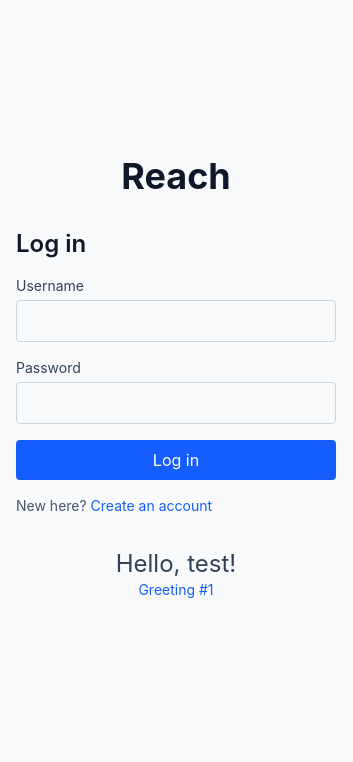
Test: logs you in and shows your chats
The width and height of the screenshot is (353, 762).
Check: the heading "Log in" is shown, box [16, 229, 86, 258]
Step 1. Type "sadra" into the field labelled "Username" → (176, 321), box [16, 300, 336, 342]
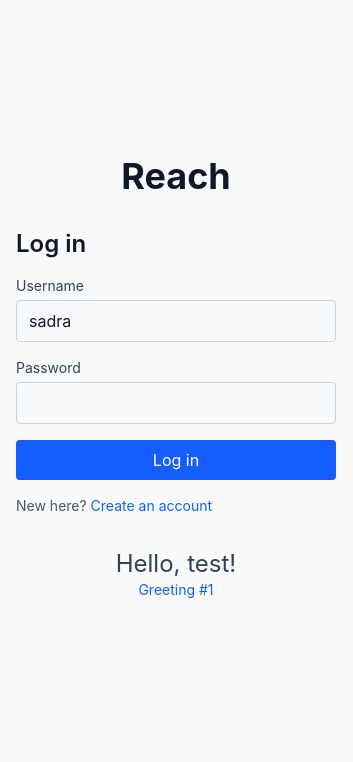
Step 2. Type "purple tram winter" into the password field labelled "Password" → (176, 403), box [16, 382, 336, 424]
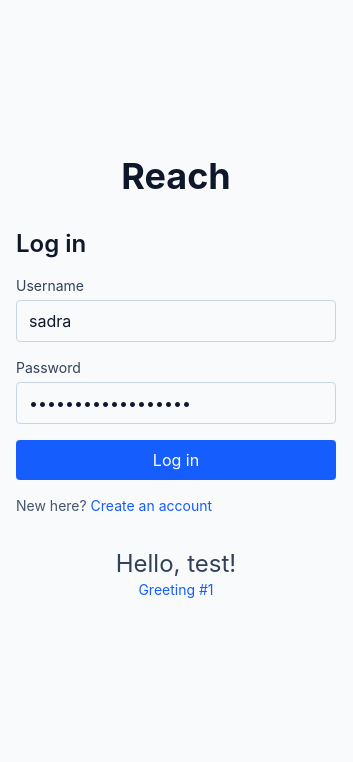
Step 3. Click the button "Log in" → (176, 460), box [16, 440, 336, 480]
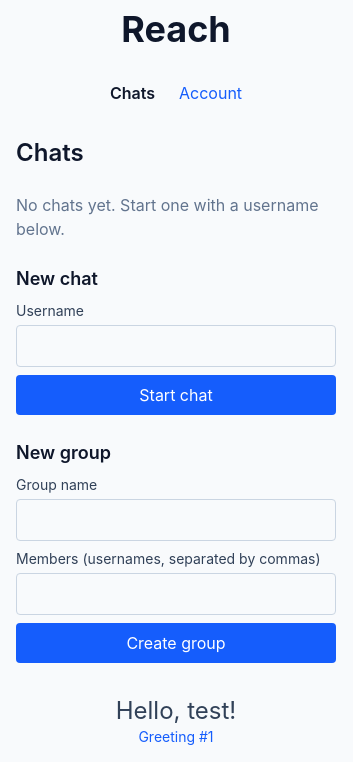
Check: the heading "Chats" is shown, box [16, 138, 84, 167]
